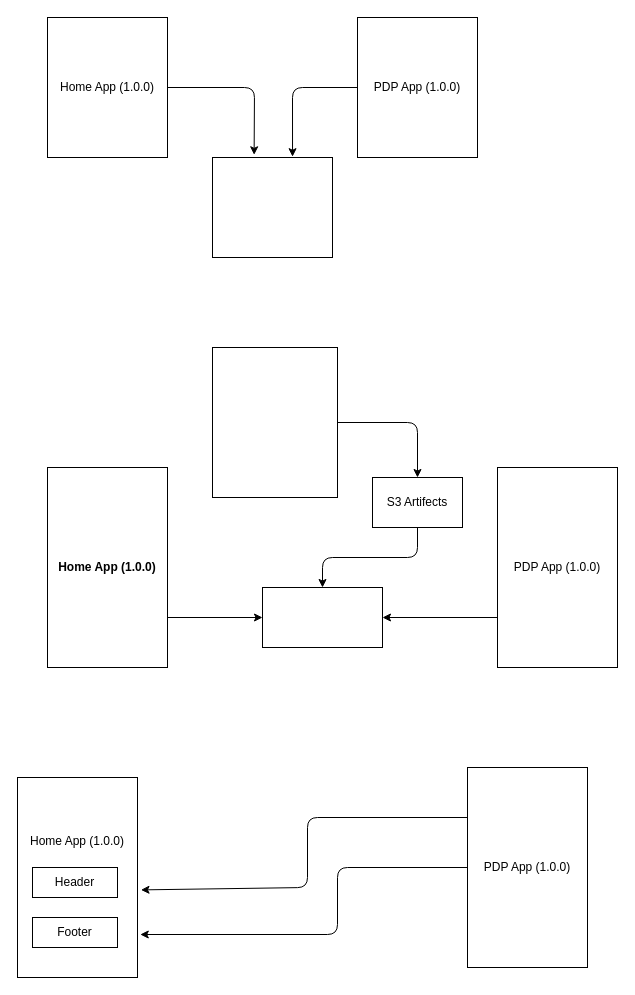
Some shapes in this 635 by 995 pixel diagram are drawn without their labels. The centre of each missing label's shape, as x and y in pixels:
"Header / Footer Project Header Footer" goes at point (275, 422).
"NPM lib (1.0.0) Header Footer" goes at point (272, 207).
"Shim Library" goes at point (322, 617).
